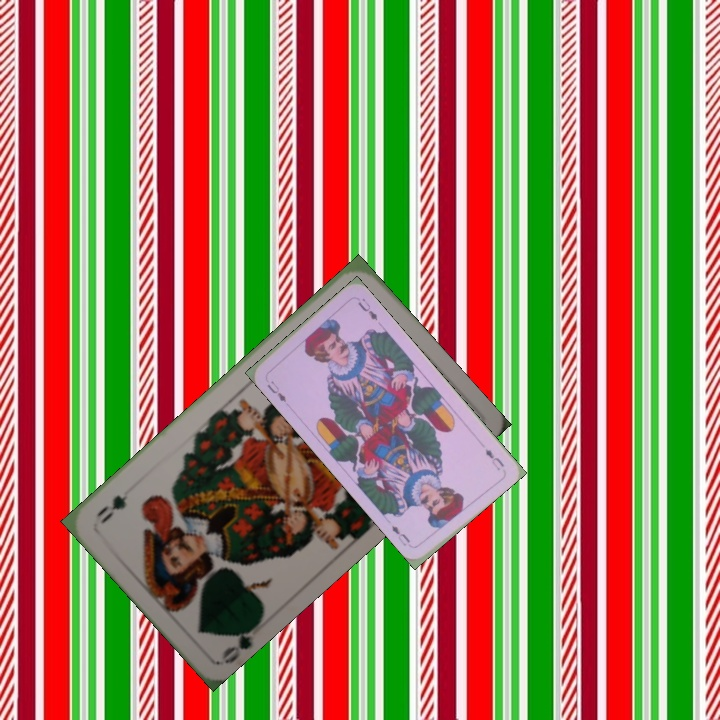EU: (263, 376, 289, 405), (481, 445, 507, 473)
GO: (217, 618, 263, 667)
